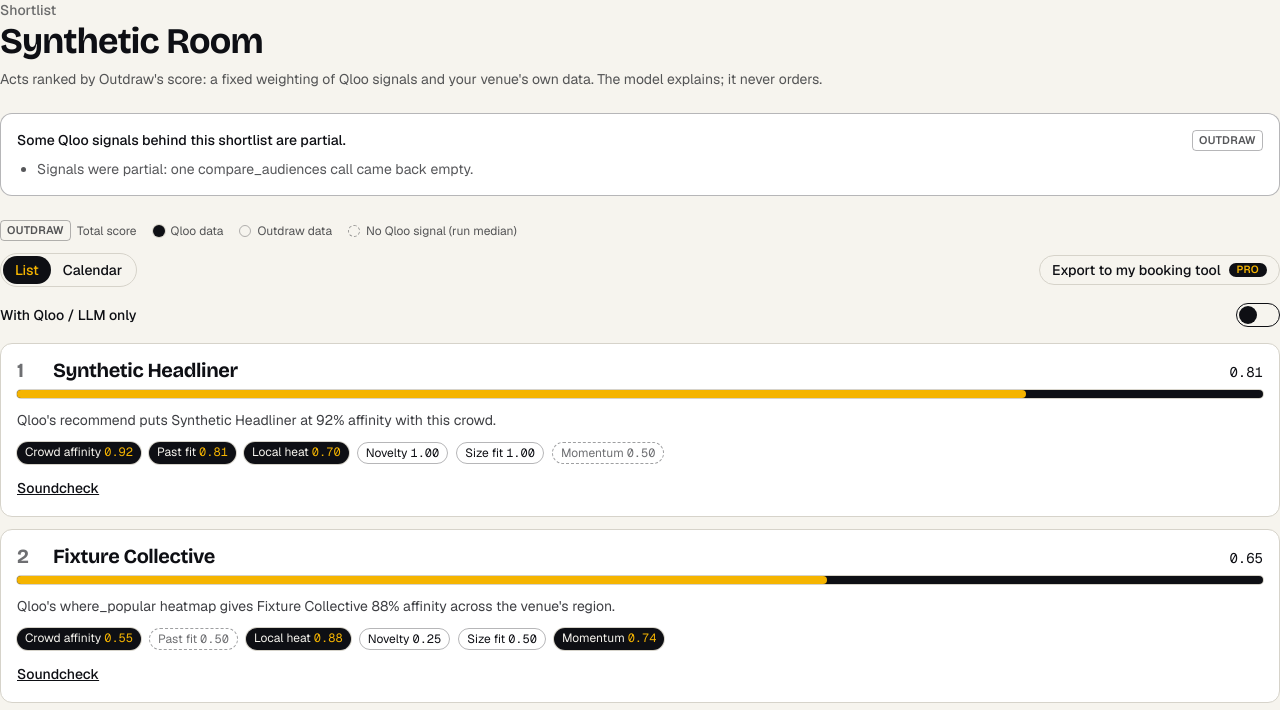
Test: precomputed seed run › leaves any other run live: no label, and its panels fetch
Step 1. Click the button with aria-label "Soundcheck for Synthetic Headliner" → (58, 488), box [17, 478, 99, 498]
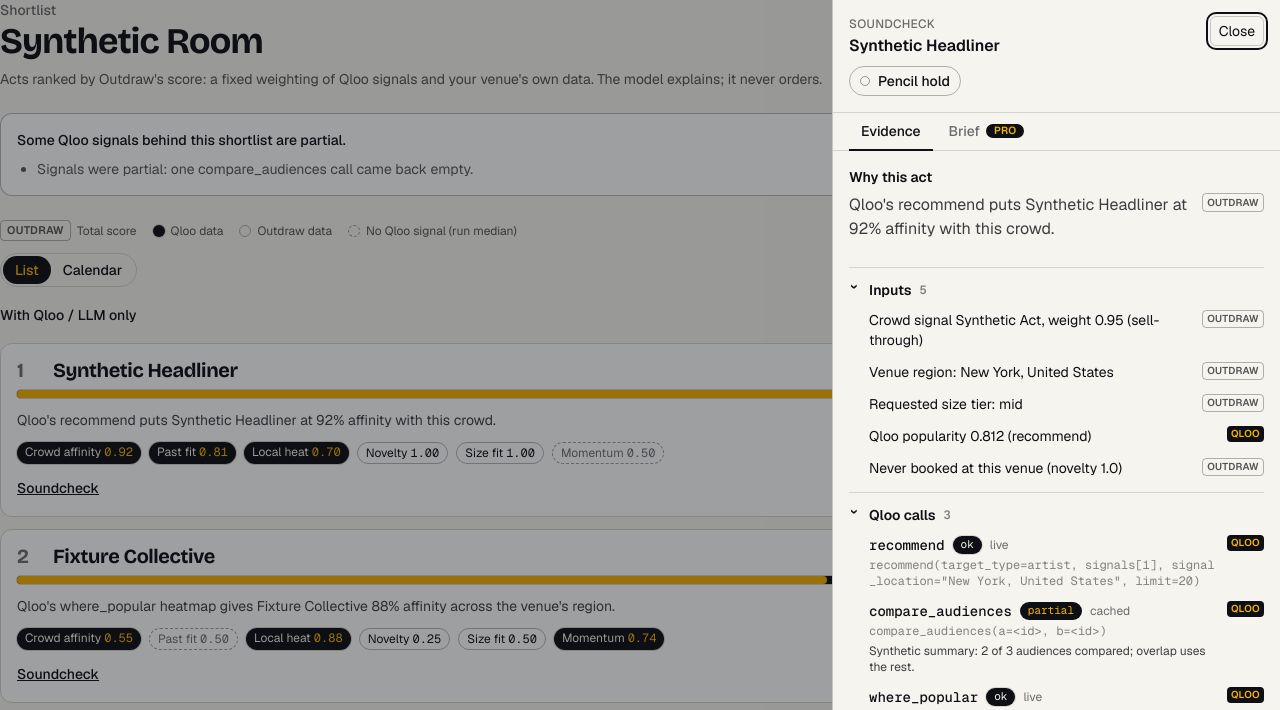
Expected: the switch labelled "Pencil hold" is shown, [849, 66, 961, 96]
